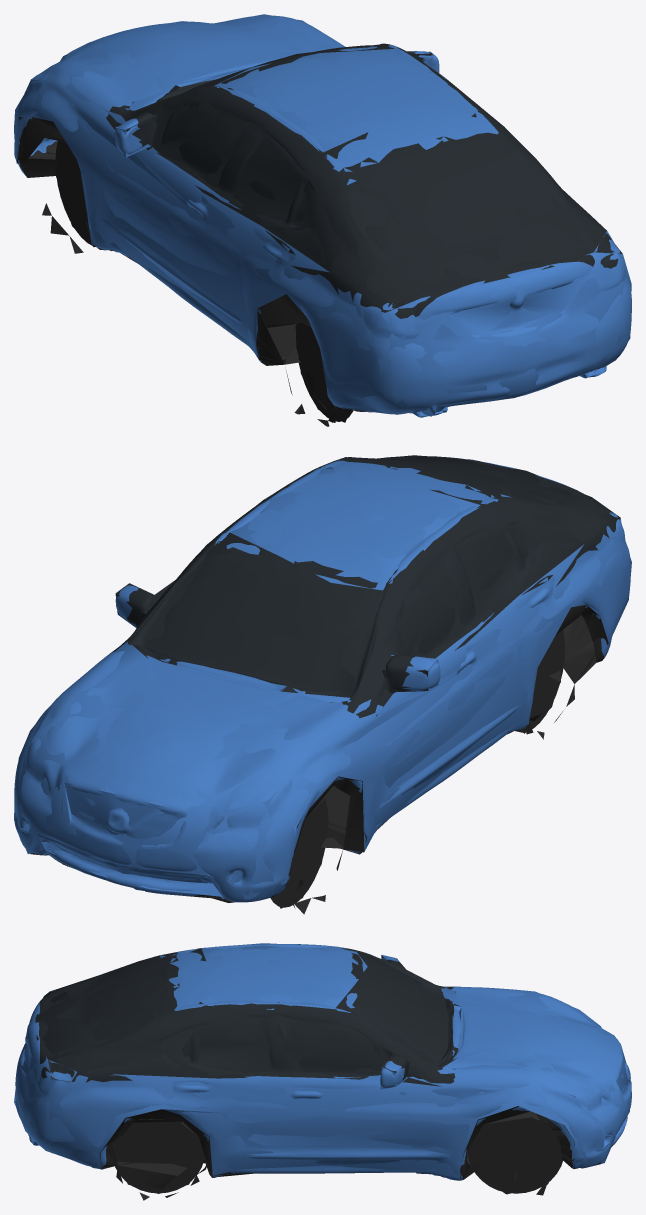
Rendered from infiniti-m35.glb.
3 renders of one model, top to bottom at view 1: azimuth 30°, elevation 25°; view 2: azimuth 150°, elevation 25°; view 3: azimuth 270°, elevation 25°, orthographic. The views are drawn at different scales.
Parts seen in each view (by area): view 1: body, far; view 2: body, far; view 3: body, far.
Boxes of the visible parts, x1=… form: body: x1=14, y1=15, x2=631, y2=426; far: x1=14, y1=14, x2=631, y2=422; body: x1=14, y1=455, x2=630, y2=907; far: x1=14, y1=455, x2=631, y2=914; body: x1=15, y1=944, x2=631, y2=1200; far: x1=14, y1=943, x2=631, y2=1195.
Bounding box in the file's own units: 2.27 × 1.69 × 5.08.
